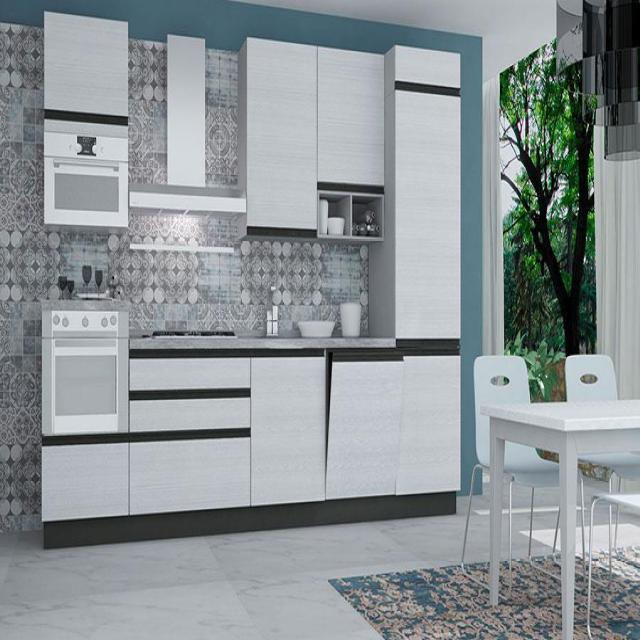dishwasher: (323, 347, 406, 503)
